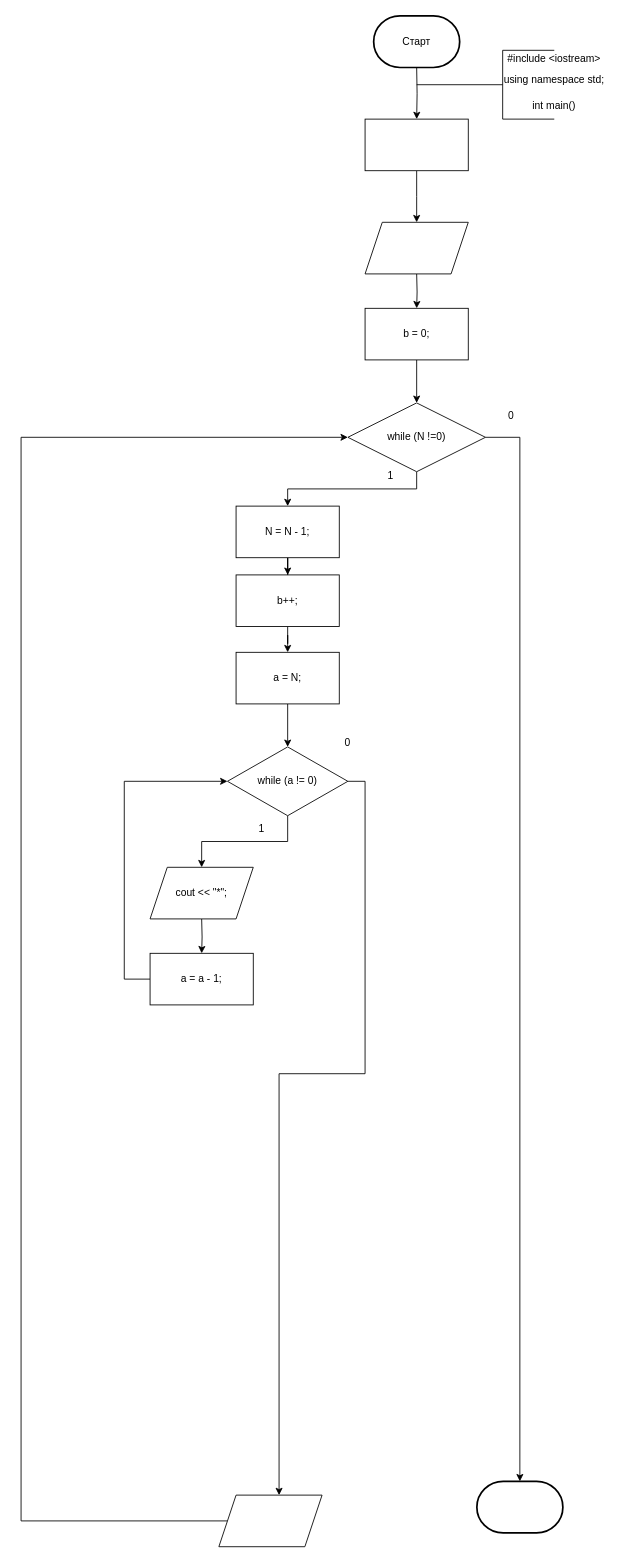
This 621x1562 diagram has some shape labels left out. The shapes that lost their labels are listed below. From the top down, each one's centre as x and y in pixels, then its label:
(x=416, y=144): int N, a, b;
(x=416, y=247): cin>>N;
(x=270, y=1520): cout << "\n";
(x=519, y=1506): Конец
